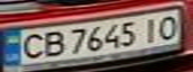4: (103, 20, 124, 50)
5: (118, 18, 142, 47)
6: (84, 24, 109, 53)
7: (66, 25, 87, 55)
B: (36, 28, 69, 58)
C: (15, 30, 48, 61)
I: (136, 15, 163, 43)
O: (154, 12, 184, 41)
